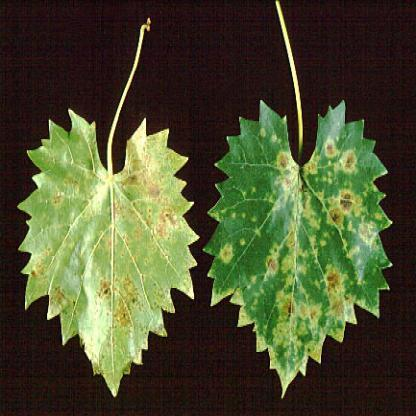grape leaf: (206, 86, 400, 400), (15, 92, 202, 401)
